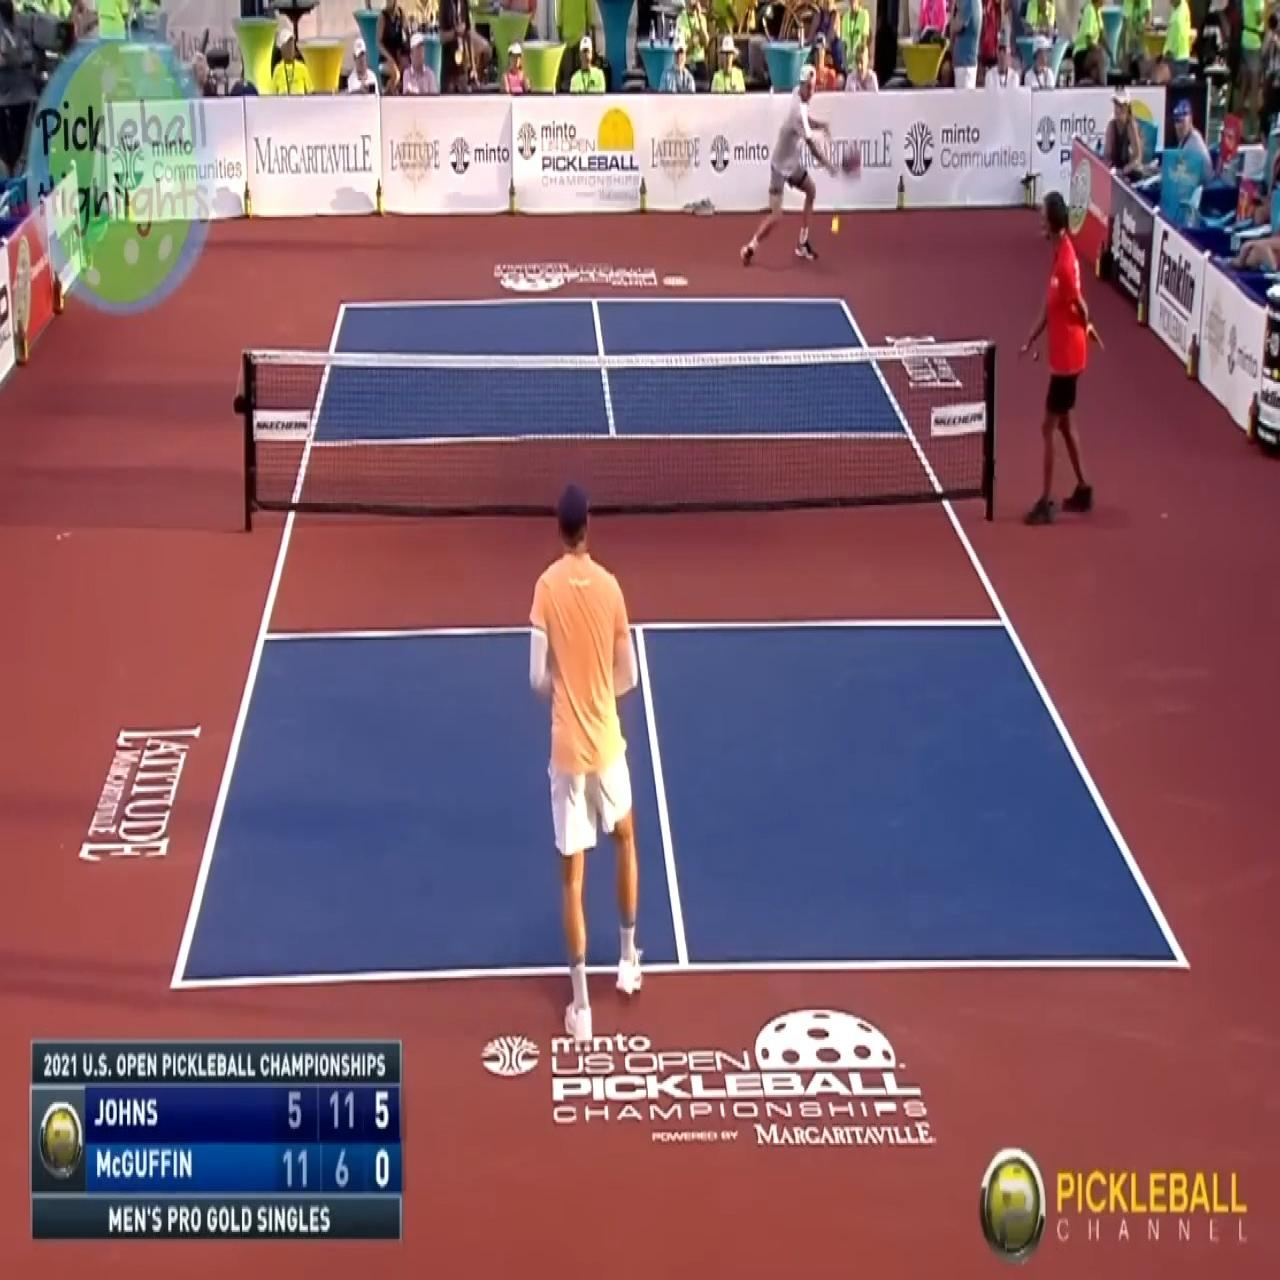pickleball: (831, 213, 840, 233)
